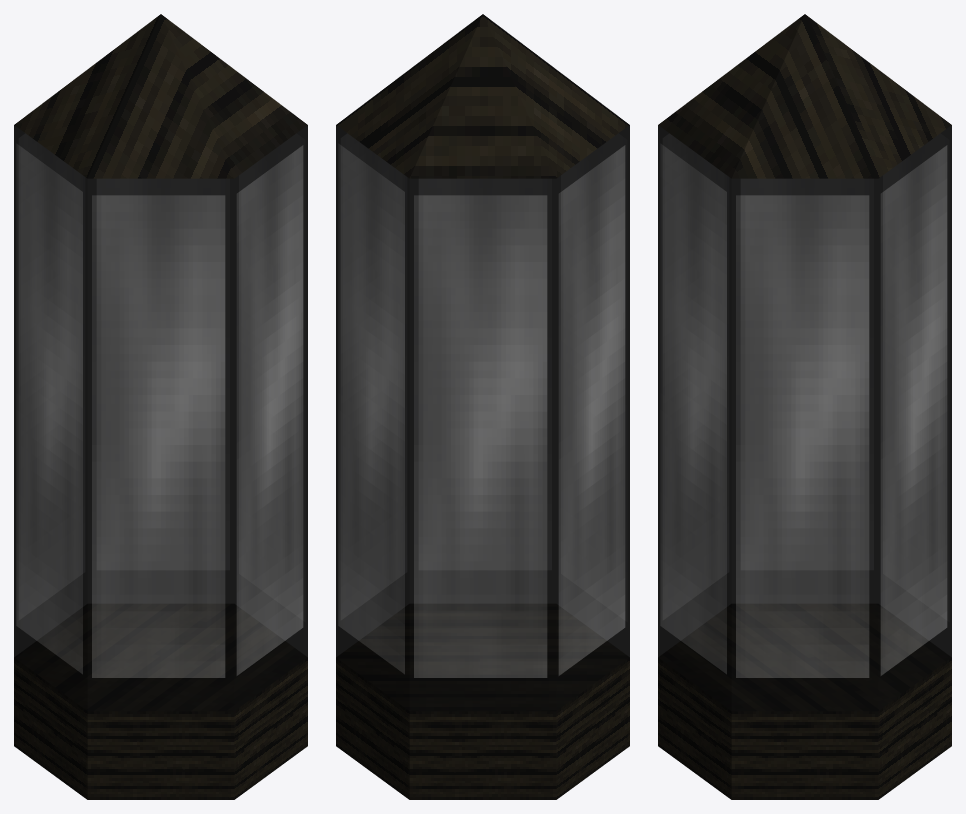
3 views of the same model, side by side, from view 1: azimuth 30°, elevation 25°; view 2: azimuth 150°, elevation 25°; view 3: azimuth 270°, elevation 25° (orthographic).
Visible parts, largest first — view 1: tube1; view 2: tube1; view 3: tube1.
Boxes of the visible parts, x1=… form: tube1: x1=14, y1=14, x2=307, y2=799; tube1: x1=336, y1=14, x2=629, y2=799; tube1: x1=658, y1=14, x2=951, y2=799.
Size of the model in its own units: 0.1039 by 0.33 by 0.12.
